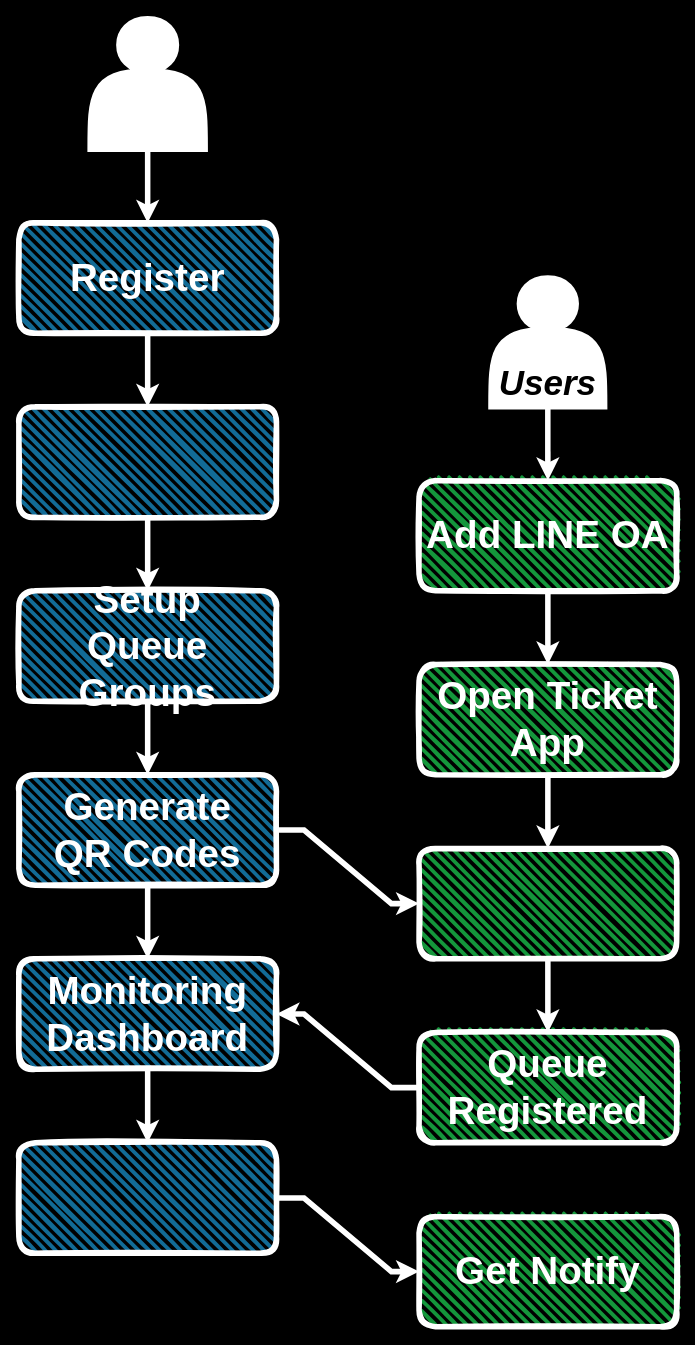
Image size: 695x1345. Some labels were removed from this diagram. The box of each missing label's shape, as (x1, y1, x2, y2) in pixels:
Admin: (87, 16, 207, 152)
LINE OA Config: (16, 404, 279, 520)
Manage Queues: (16, 1140, 279, 1256)
Scan QR Code: (416, 845, 679, 961)
